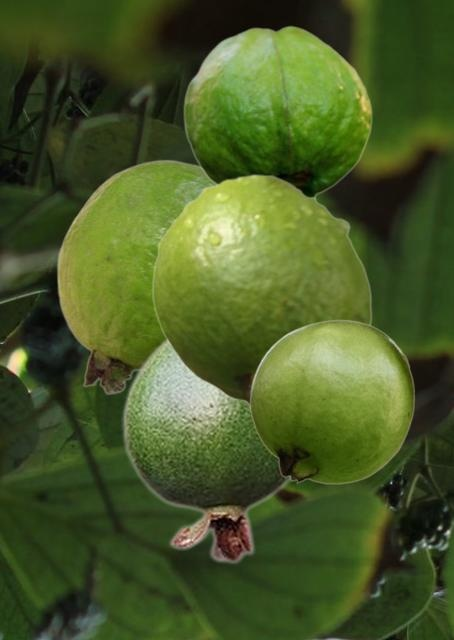guava: (151, 173, 371, 409), (121, 337, 290, 564), (56, 159, 213, 394), (183, 25, 371, 196), (249, 319, 414, 483)
